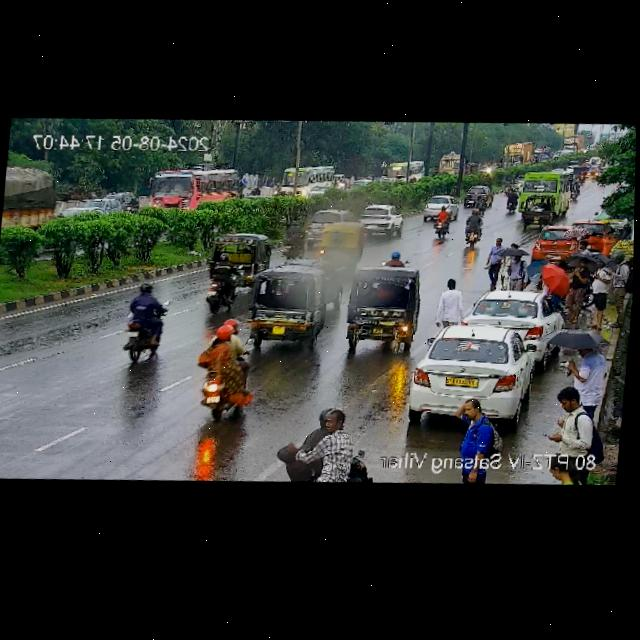bus: (143, 161, 242, 219), (0, 159, 58, 236), (505, 168, 577, 221), (275, 161, 335, 198)
car: (408, 316, 542, 427), (242, 262, 331, 346), (344, 262, 423, 354), (456, 285, 561, 343), (533, 214, 617, 262), (208, 231, 270, 273), (48, 191, 121, 221), (321, 218, 364, 265), (355, 201, 403, 235), (416, 193, 459, 220), (517, 203, 553, 227), (464, 186, 494, 207)
motorcycle: (189, 316, 253, 419), (117, 284, 173, 363), (203, 249, 241, 313), (427, 206, 455, 238)
person: (305, 410, 364, 483), (543, 389, 599, 461), (452, 395, 508, 461), (490, 236, 531, 292), (483, 235, 519, 291), (583, 257, 613, 321), (432, 276, 467, 327), (562, 257, 588, 321), (608, 254, 634, 311), (597, 230, 612, 253)
